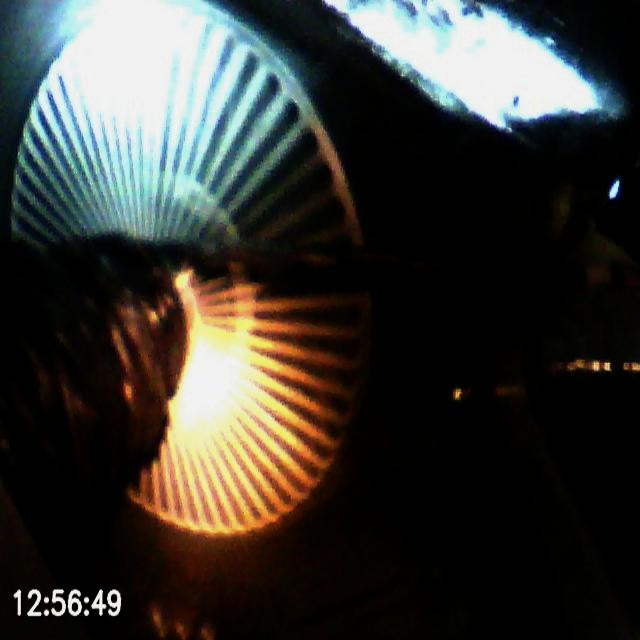white-dots: (581, 258, 640, 292)
